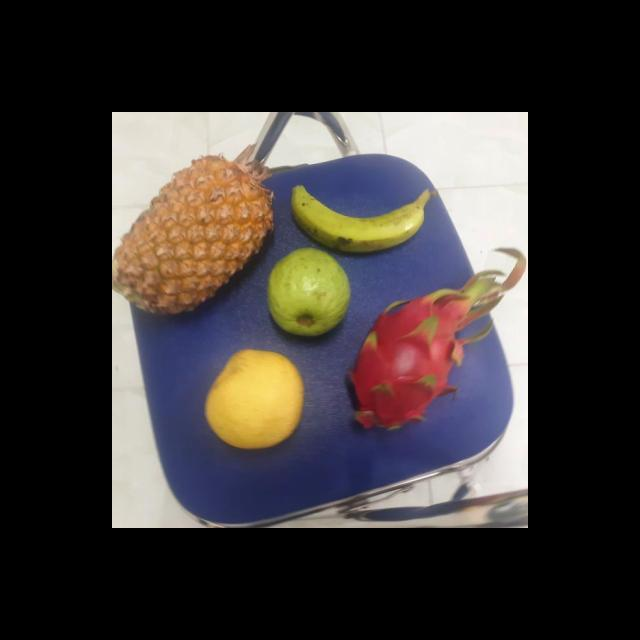banana: (288, 182, 423, 252)
guava: (264, 248, 352, 337)
pear: (200, 348, 309, 451)
pineapple: (112, 157, 267, 320)
pitaya: (338, 292, 492, 432)
